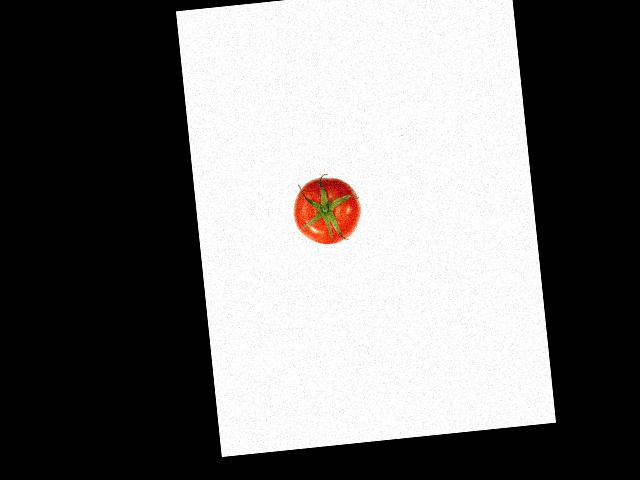tomato: (290, 174, 364, 248)
